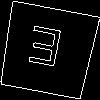E: (23, 25, 65, 76)
